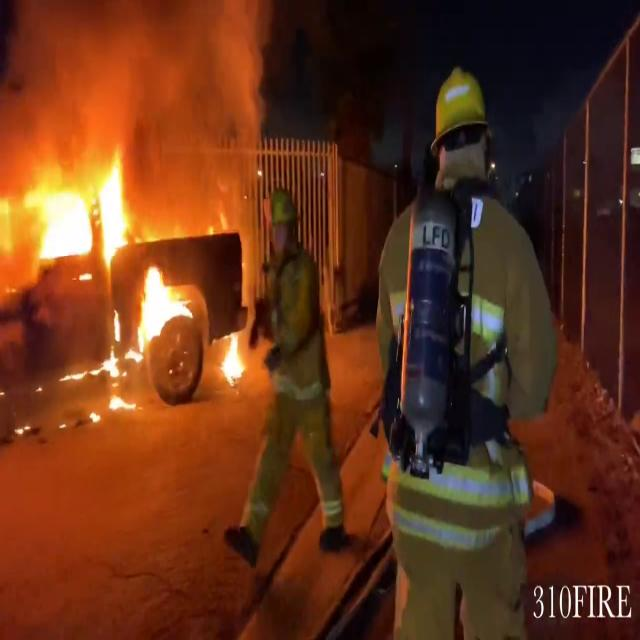Fire: (0, 136, 187, 370), (220, 325, 248, 389)
Smoke: (0, 0, 278, 194)
